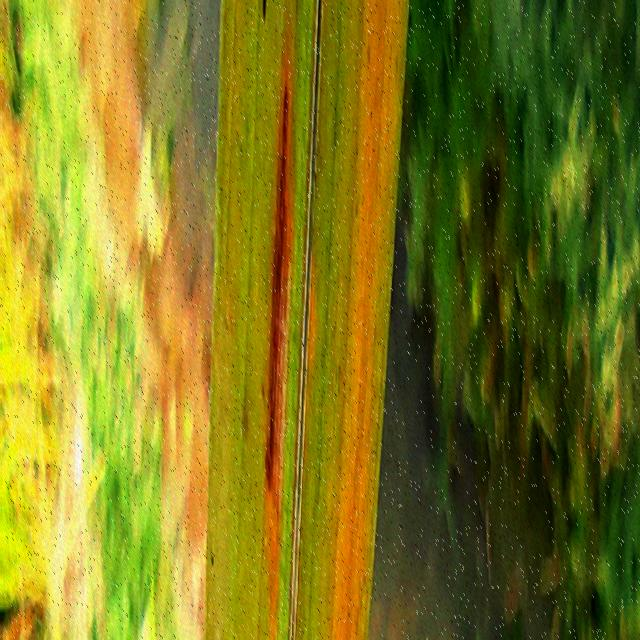LEAF BLAST: (265, 84, 292, 556)
